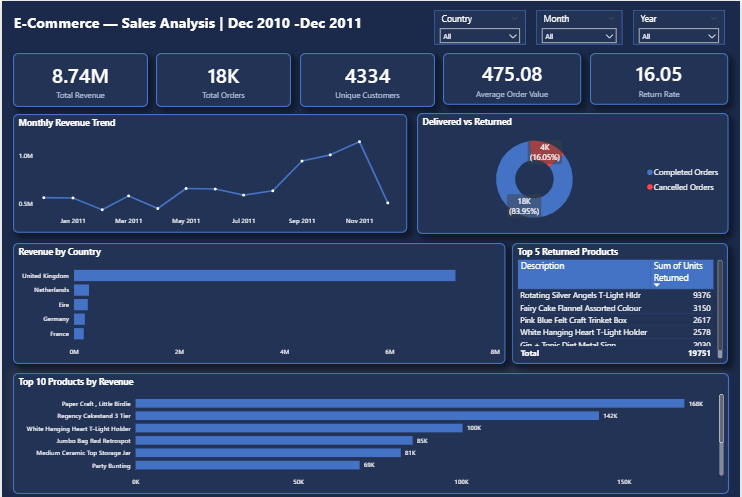

This screenshot's page, from the dashboard's own definition file:
{"tool":"powerbi","page":{"name":"Page 1","canvas":[1366,930],"ordinal":0},"visuals":[{"type":"card","fields":{"Values":["online_retail_cleaned.Total Revenue"]},"box":[20,96,250,100],"z":0},{"type":"card","fields":{"Values":["online_retail_cleaned.Total Orders"]},"box":[285.5,96,250,100],"z":1000},{"type":"card","fields":{"Values":["online_retail_cleaned.Unique Customers"]},"box":[551,96,250,100],"z":2000},{"type":"card","fields":{"Values":["online_retail_cleaned.Average Order Value"]},"box":[816.5,96,256,96],"z":3000},{"type":"card","fields":{"Values":["online_retail_cleaned.Return Rate"]},"box":[1088,96,256,96],"z":4000},{"type":"lineChart","title":"Monthly Revenue Trend","fields":{"Y":["online_retail_cleaned.Total Revenue"],"Category":["online_retail_cleaned.Month.Variation.Date Hierarchy.Year","online_retail_cleaned.Month.Variation.Date Hierarchy.Quarter","online_retail_cleaned.Month.Variation.Date Hierarchy.Month","online_retail_cleaned.Month.Variation.Date Hierarchy.Day"]},"box":[20,210,730,220],"z":5000},{"type":"clusteredBarChart","title":"Top 10 Products by Revenue","fields":{"Category":["online_retail_cleaned.Description"],"Y":["online_retail_cleaned.Total Revenue"]},"box":[20,688,1326,224],"z":6000},{"type":"tableEx","title":"Top 5 Returned Products","fields":{"Values":["online_retail_cancelled.Description","Sum(online_retail_cancelled.Units Returned)"]},"box":[944,448,400,224],"z":7000},{"type":"donutChart","title":"Delivered vs Returned","fields":{"Y":["online_retail_cleaned.Completed Orders","online_retail_cleaned.Cancelled Orders"]},"box":[768,208,577,224],"z":8000},{"type":"textbox","box":[16,16,672,64],"z":9000},{"type":"slicer","fields":{"Values":["online_retail_cleaned.Country"]},"box":[800,16,170,64],"z":10000},{"type":"slicer","fields":{"Values":["online_retail_cleaned.Month"]},"box":[989,16,160,64],"z":11000},{"type":"slicer","fields":{"Values":["online_retail_cleaned.Year"]},"box":[1168,16,170,64],"z":12000},{"type":"clusteredBarChart","title":"Revenue by Country","fields":{"Category":["online_retail_cleaned.Country"],"Y":["online_retail_cleaned.Total Revenue"]},"box":[20,448,912,224],"z":13000}]}

Visuals, with their boxes in screenshot pixels (x1, y1, x2, y2), scaled from the page's 1366x930 canvas onto the 742x497 screenshot:
card - online_retail_cleaned.Total Revenue: box(11, 51, 147, 105)
card - online_retail_cleaned.Total Orders: box(155, 51, 291, 105)
card - online_retail_cleaned.Unique Customers: box(299, 51, 435, 105)
card - online_retail_cleaned.Average Order Value: box(444, 51, 583, 103)
card - online_retail_cleaned.Return Rate: box(591, 51, 730, 103)
"Monthly Revenue Trend" lineChart: box(11, 112, 407, 230)
"Top 10 Products by Revenue" clusteredBarChart: box(11, 368, 731, 487)
"Top 5 Returned Products" tableEx: box(513, 239, 730, 359)
"Delivered vs Returned" donutChart: box(417, 111, 731, 231)
textbox: box(9, 9, 374, 43)
slicer - online_retail_cleaned.Country: box(435, 9, 527, 43)
slicer - online_retail_cleaned.Month: box(537, 9, 624, 43)
slicer - online_retail_cleaned.Year: box(634, 9, 727, 43)
"Revenue by Country" clusteredBarChart: box(11, 239, 506, 359)
